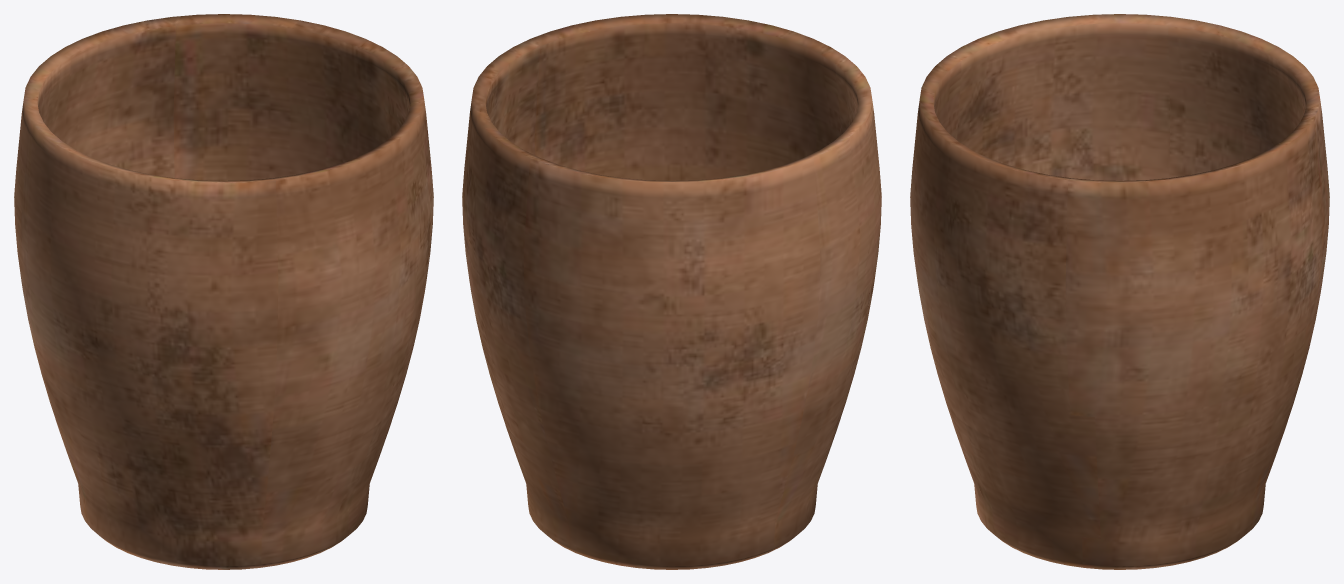
The model's file is pot_tall_web.glb.
3 views of the same model, side by side, from view 1: azimuth 30°, elevation 25°; view 2: azimuth 150°, elevation 25°; view 3: azimuth 270°, elevation 25° (orthographic).
Parts seen in each view (by area): view 1: PotTall_Mesh; view 2: PotTall_Mesh; view 3: PotTall_Mesh.
Part boxes in pixels (x1,y1,x2,y2): PotTall_Mesh: [14, 14, 433, 569]; PotTall_Mesh: [462, 14, 881, 569]; PotTall_Mesh: [910, 14, 1329, 569].
Size of the model in its own units: 0.216 by 0.235 by 0.216.
1 material, 1 textured.
